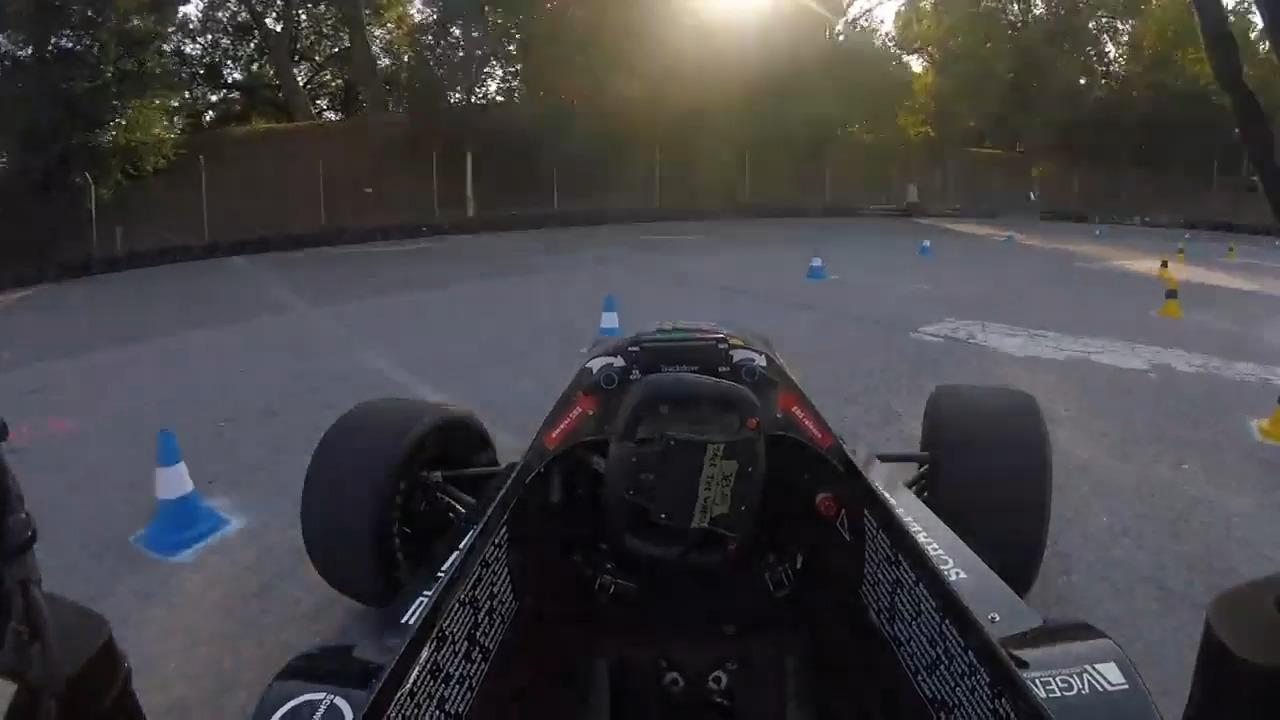blue_cone: (120, 423, 231, 562), (583, 293, 637, 379), (801, 244, 828, 284), (917, 236, 933, 260)
yellow_cone: (1255, 375, 1280, 448), (1158, 278, 1186, 320), (1154, 259, 1173, 282), (1173, 243, 1188, 266), (1226, 244, 1238, 261)
